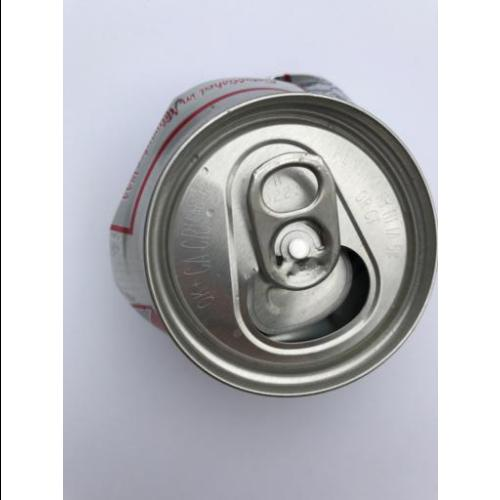metal: (107, 72, 438, 396)
